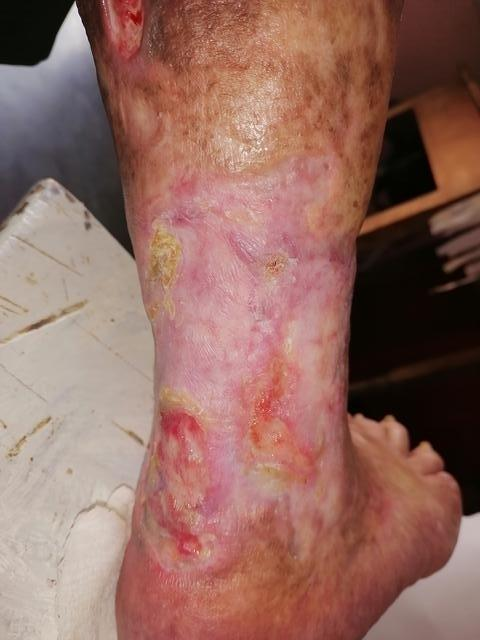wound: (140, 156, 355, 574), (103, 0, 146, 65)
